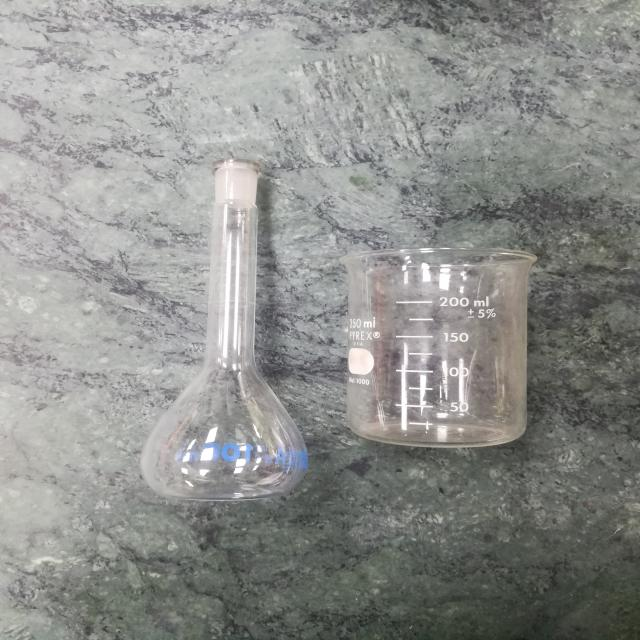Beaker: (351, 225, 538, 460)
Volumetric_Flask: (102, 139, 334, 519)
